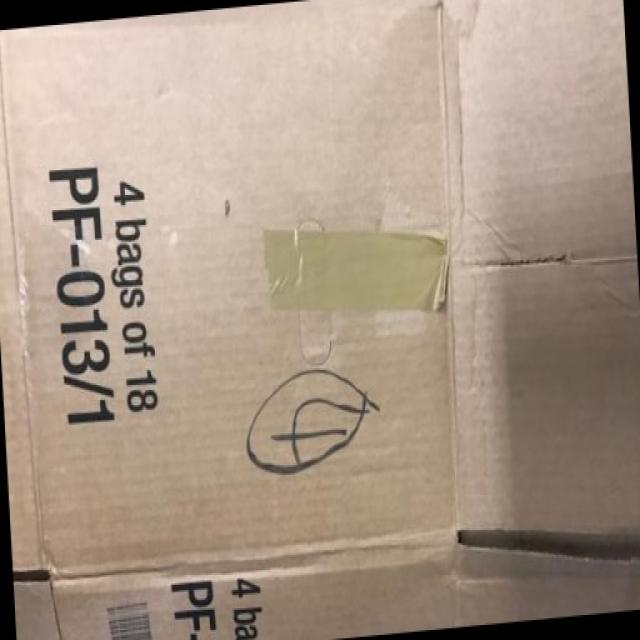carton: (5, 11, 640, 639)
